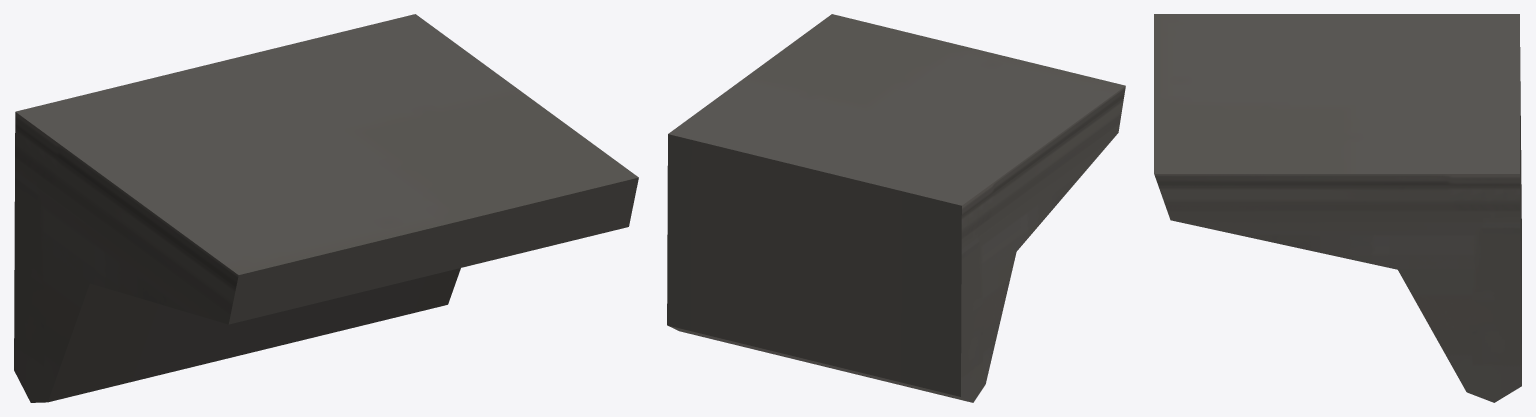
The model's file is SM_Rubble_Trim_Corner_01.fbx.
3 views of the same model, side by side, from view 1: azimuth 30°, elevation 25°; view 2: azimuth 150°, elevation 25°; view 3: azimuth 270°, elevation 25° (orthographic). The views are drawn at different scales.
Visible parts, largest first — view 1: SM_Rubble_Trim_Corner; view 2: SM_Rubble_Trim_Corner; view 3: SM_Rubble_Trim_Corner.
Part boxes in pixels (<box>): SM_Rubble_Trim_Corner: <box>14,14,638,402</box>; SM_Rubble_Trim_Corner: <box>667,14,1125,402</box>; SM_Rubble_Trim_Corner: <box>1154,14,1521,402</box>.
Bounding box in the file's own units: 95.83 × 64.05 × 93.18.
